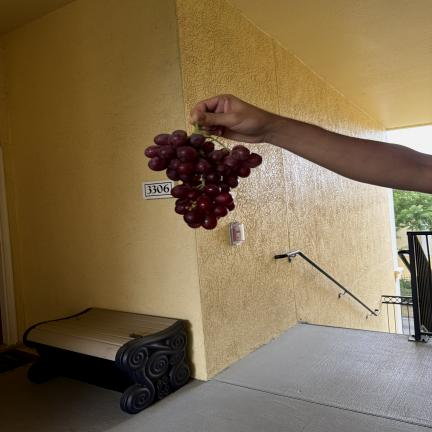grape_cluster: (145, 131, 262, 230)
